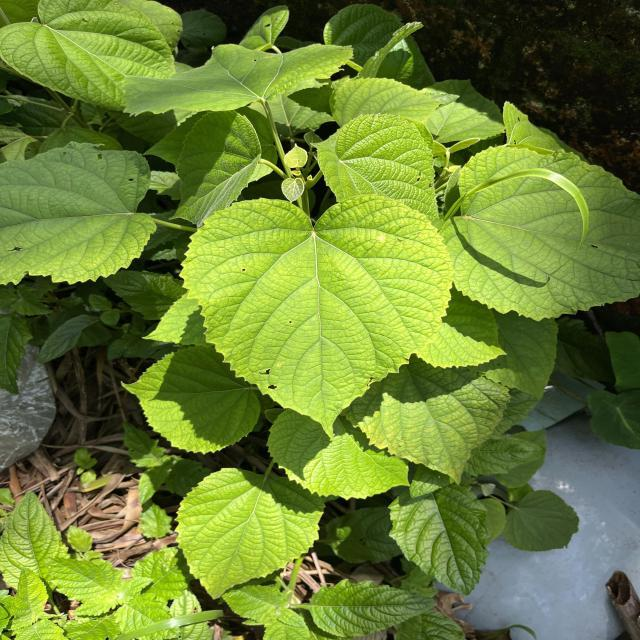Clerodendrum infortunatum: (177, 192, 455, 438), (438, 142, 640, 324), (0, 141, 158, 287), (174, 466, 326, 601), (0, 0, 178, 113), (346, 382, 523, 488), (120, 345, 250, 455), (264, 409, 412, 502)
